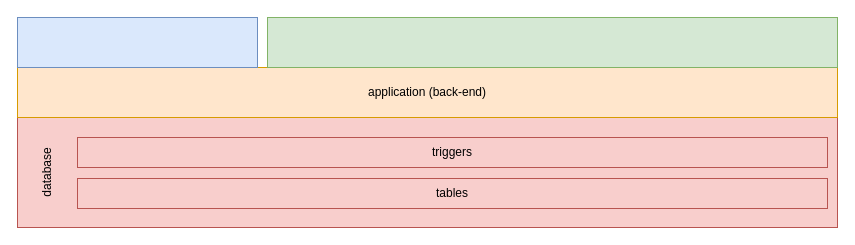
This 855x245 diagram has some shape labels left out. The centre of each missing label's shape, as x and y in pixels:
"acc client (arduino)" belongs at [137,42].
"front-end" belongs at [552,42].
